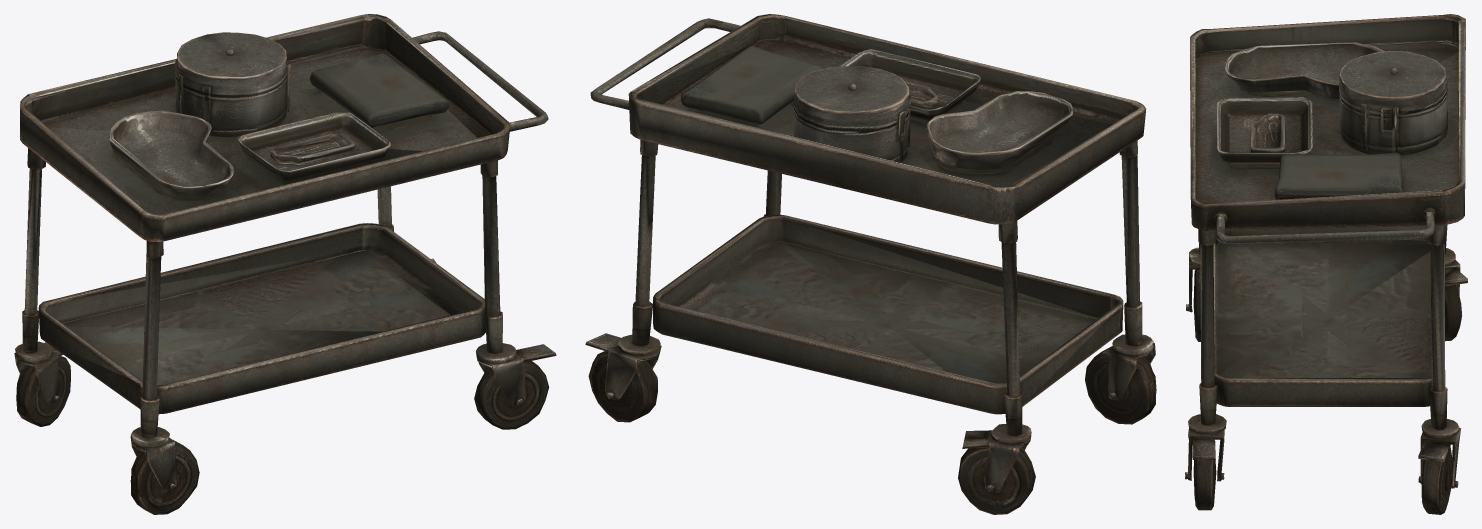
Rendered from medical_trolley.fbx.
3 renders of one model, left to right at view 1: azimuth 30°, elevation 25°; view 2: azimuth 150°, elevation 25°; view 3: azimuth 270°, elevation 25°, orthographic. The views are drawn at different scales.
Visible parts, largest first — view 1: mesh_node; view 2: mesh_node; view 3: mesh_node.
Boxes of the visible parts, x1,y1,x2,y2 form: mesh_node: (14,14,556,514); mesh_node: (585,14,1156,514); mesh_node: (1185,14,1467,514).
Bounding box in the file's own units: 100 × 79.49 × 58.4.
Materials: 1 (1 with a texture image).
